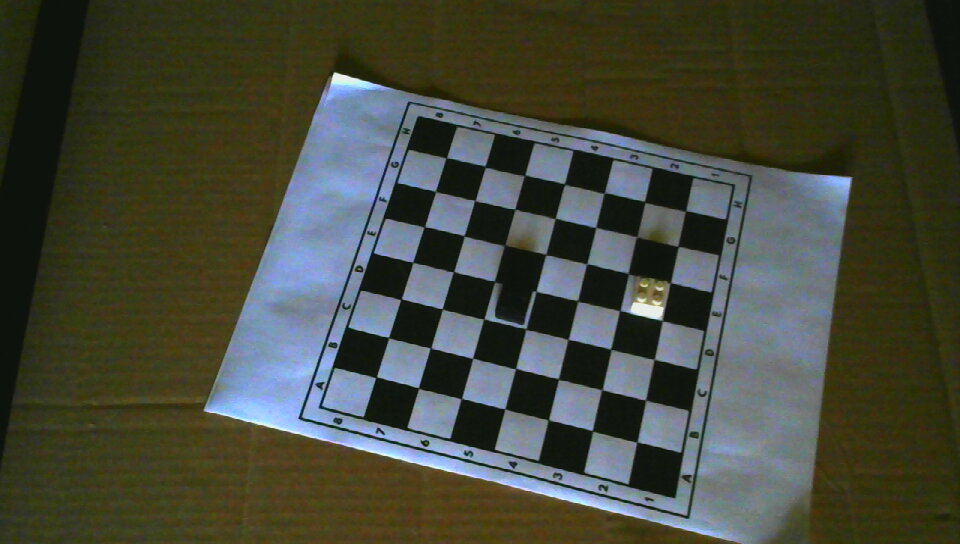bp: (495, 282, 532, 325)
wp: (630, 276, 668, 318)
